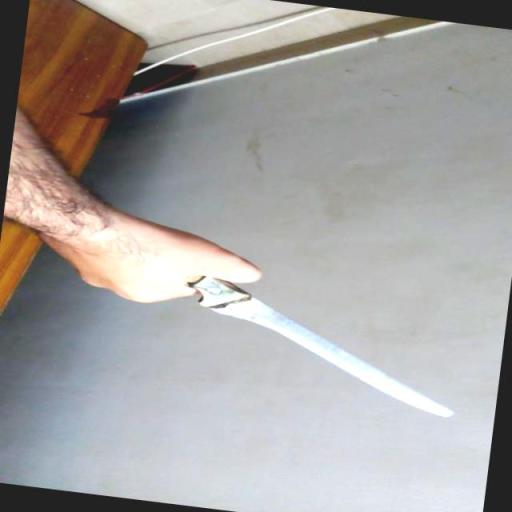knife: (146, 258, 474, 422)
